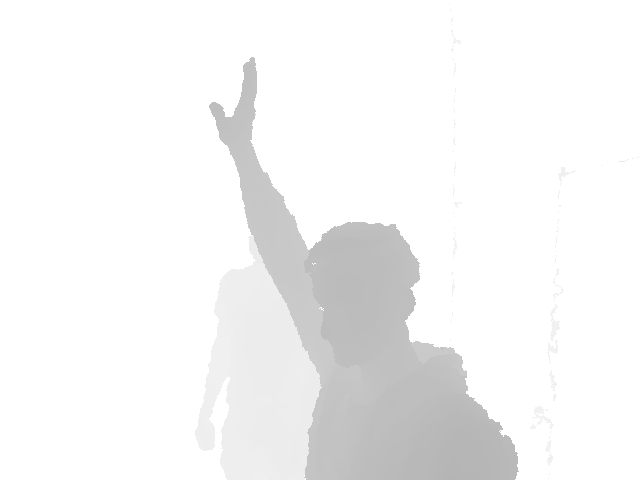hand: (209, 57, 258, 150)
head: (303, 219, 420, 371)
person: (209, 57, 521, 480)
